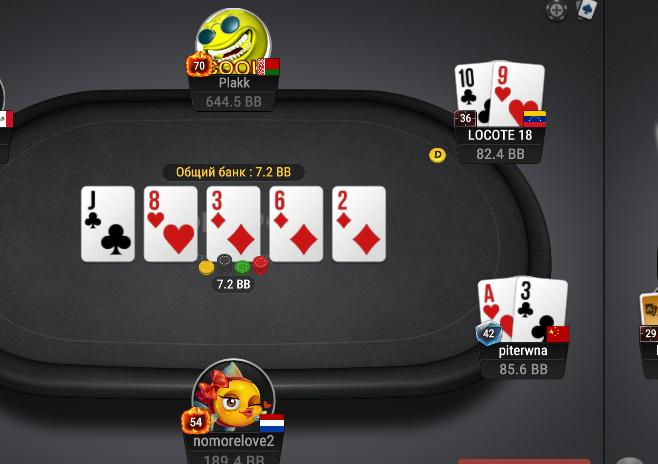10c: (455, 62, 492, 128)
2d: (332, 186, 385, 262)
3c: (514, 277, 566, 339)
3d: (208, 188, 259, 261)
6d: (271, 188, 322, 261)
8h: (145, 187, 196, 261)
9h: (493, 61, 542, 127)
Ah: (478, 280, 514, 342)
Jc: (81, 186, 134, 261)
